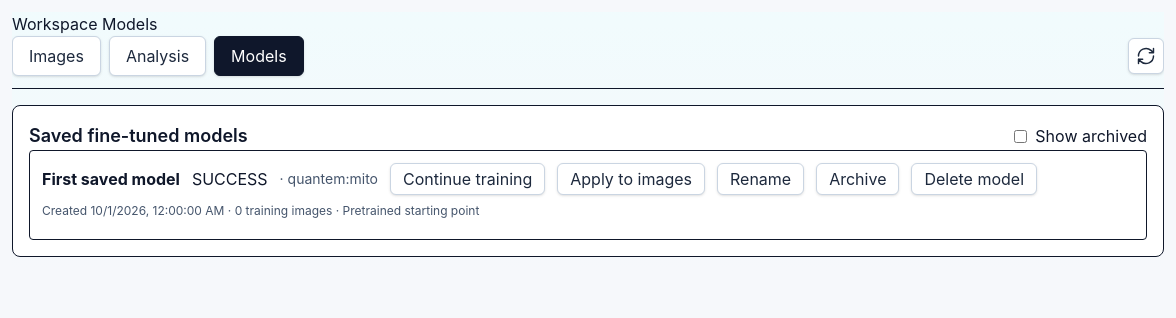
it: Experiment workbench › reloads models on repeated tab and workspace navigation clicks and the shared refresh
Check: the text "First saved model" is shown, box top-left (42, 167), bottom-right (180, 191)
Check: the button "Refresh" is not shown
Click the button "Models" at (259, 56), box top-left (214, 36), bottom-right (304, 76)
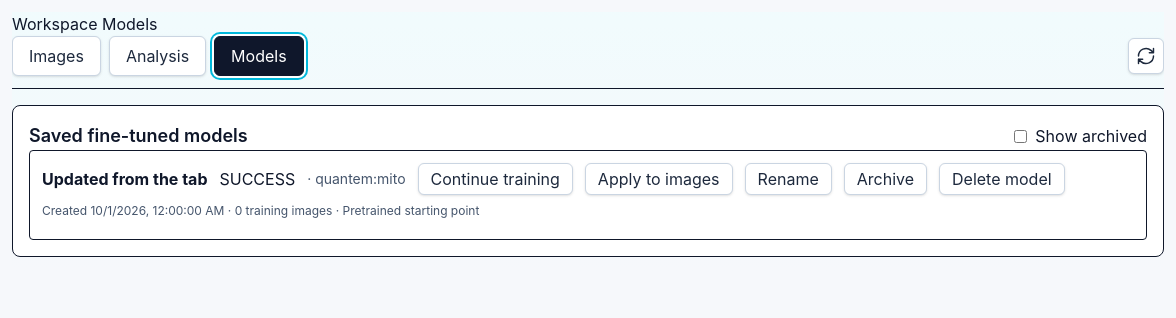
Check: the text "Updated from the tab" is shown, box top-left (42, 167), bottom-right (208, 191)
Click the link "Workspace Models" at (85, 24), box top-left (12, 14), bottom-right (158, 34)
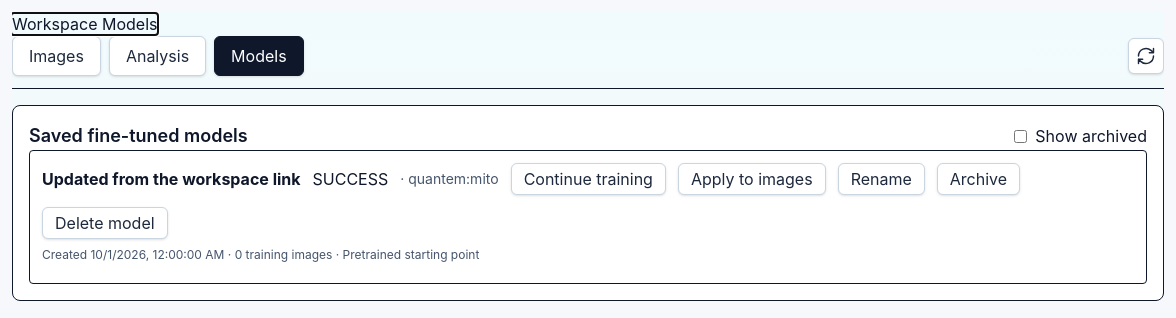
Check: the text "Updated from the workspace link" is shown, box top-left (42, 167), bottom-right (300, 191)
Click the button named "Refresh status" at (1146, 56), box top-left (1128, 38), bottom-right (1164, 74)
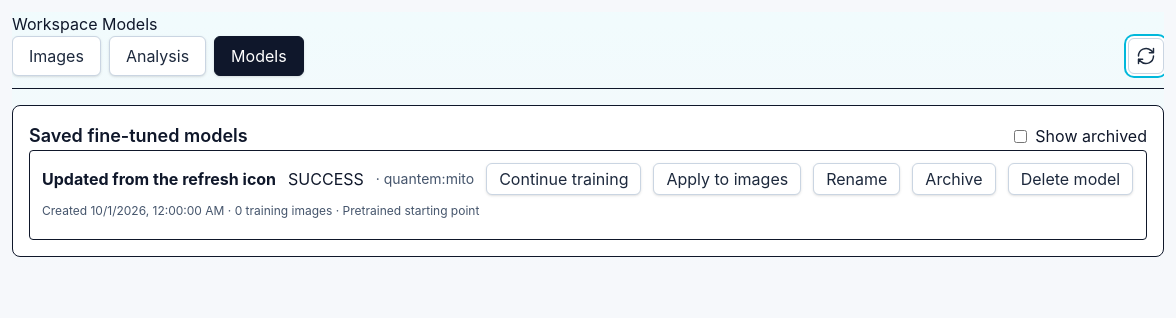
Check: the text "Updated from the refresh icon" is shown, box top-left (42, 167), bottom-right (276, 191)
